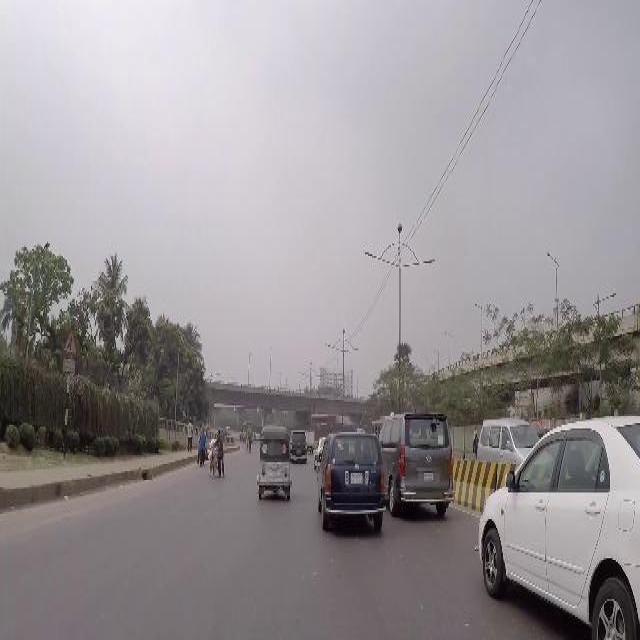bicycle: (206, 446, 217, 475), (244, 437, 248, 452)
bus: (308, 412, 334, 428)
car: (475, 414, 639, 638), (315, 431, 385, 525), (312, 436, 324, 468), (254, 429, 260, 438)
minivan: (377, 414, 453, 510), (290, 430, 306, 459)
pickup: (305, 428, 313, 450)
three wheelers -CNG-: (256, 427, 290, 497)
van: (478, 419, 534, 458)
